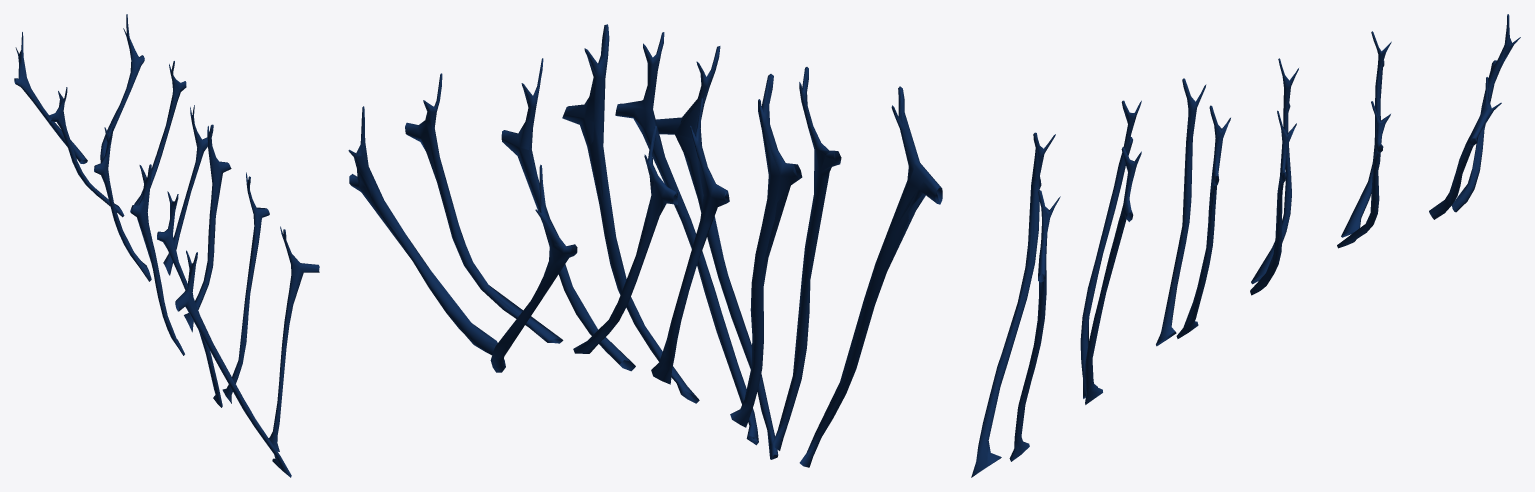
The model's file is venae intercostales dorsales.fbx.
3 renders of one model, left to right at view 1: azimuth 30°, elevation 25°; view 2: azimuth 150°, elevation 25°; view 3: azimuth 270°, elevation 25°, orthographic. The views are drawn at different scales.
Parts seen in each view (by area): view 1: venae intercostales dorsales, venae intercostales dorsales low; view 2: venae intercostales dorsales, venae intercostales dorsales low; view 3: venae intercostales dorsales, venae intercostales dorsales low.
Boxes of the visible parts, bbox=[...] form: venae intercostales dorsales: bbox=[14, 14, 319, 477]; venae intercostales dorsales low: bbox=[16, 27, 317, 474]; venae intercostales dorsales: bbox=[348, 24, 942, 467]; venae intercostales dorsales low: bbox=[349, 29, 942, 457]; venae intercostales dorsales: bbox=[971, 14, 1520, 477]; venae intercostales dorsales low: bbox=[973, 29, 1517, 476].
Bounding box in the file's own units: 8.19 × 17.04 × 20.19.
